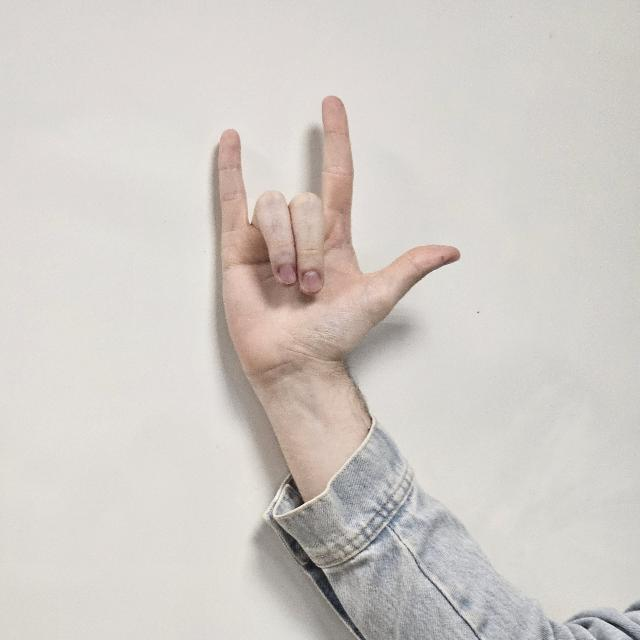Cima: (209, 91, 465, 397)
